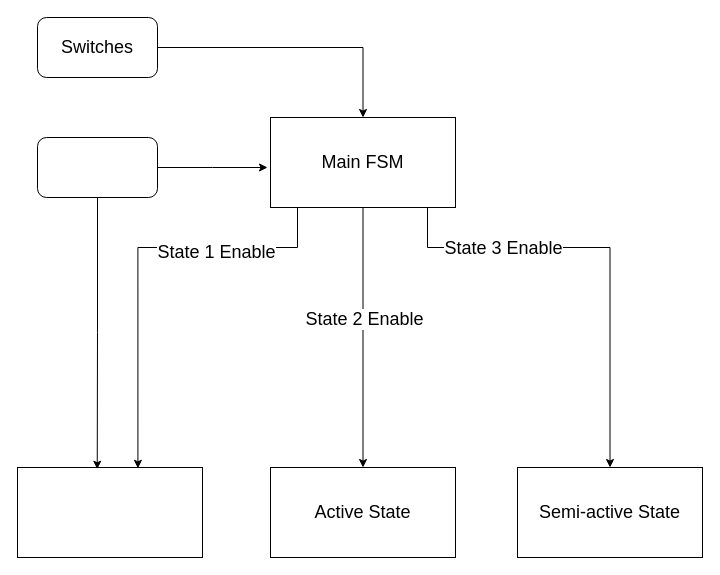
Image size: 720x575. Some labels were removed from this diagram. Here are the shapes that lost their labels. From the top down, the box of each, then its label:
(36, 136, 158, 198): Clock
(16, 466, 202, 558): Inactive State
